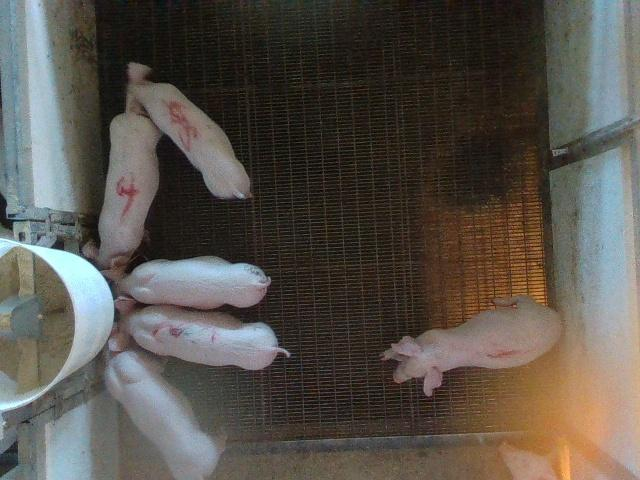pig-1: (381, 295, 561, 396)
pig-3: (109, 296, 290, 369)
pig-4: (99, 110, 161, 268)
pig-5: (126, 63, 251, 199)
